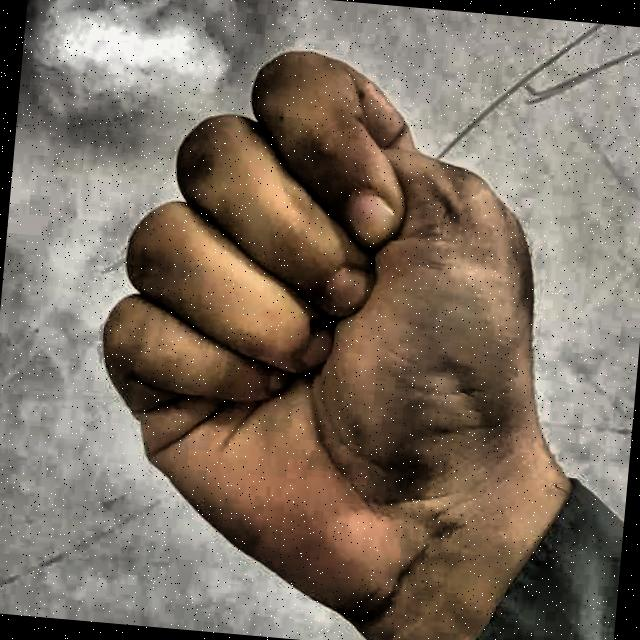To: (34, 12, 593, 640)
